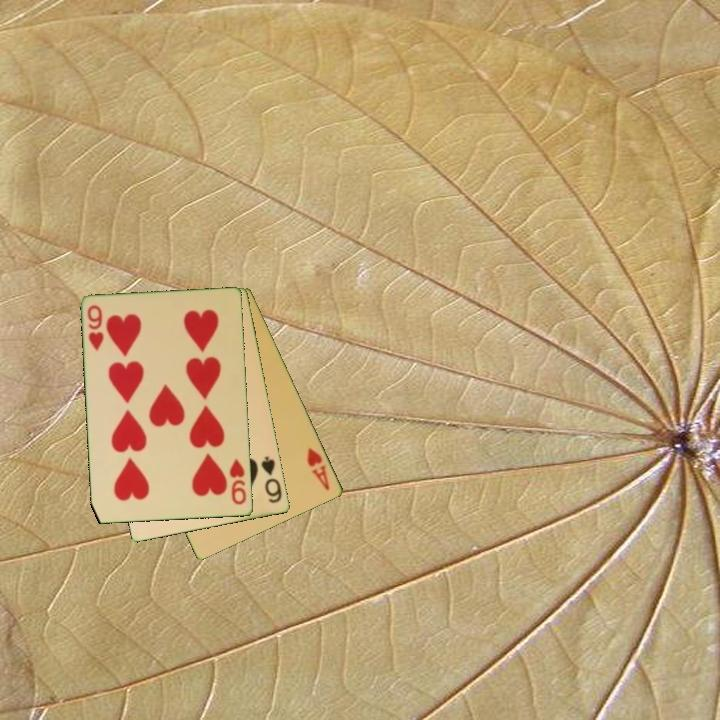6s: (258, 453, 285, 506)
9h: (226, 455, 249, 508), (84, 302, 107, 354)
Ah: (304, 444, 333, 493)
